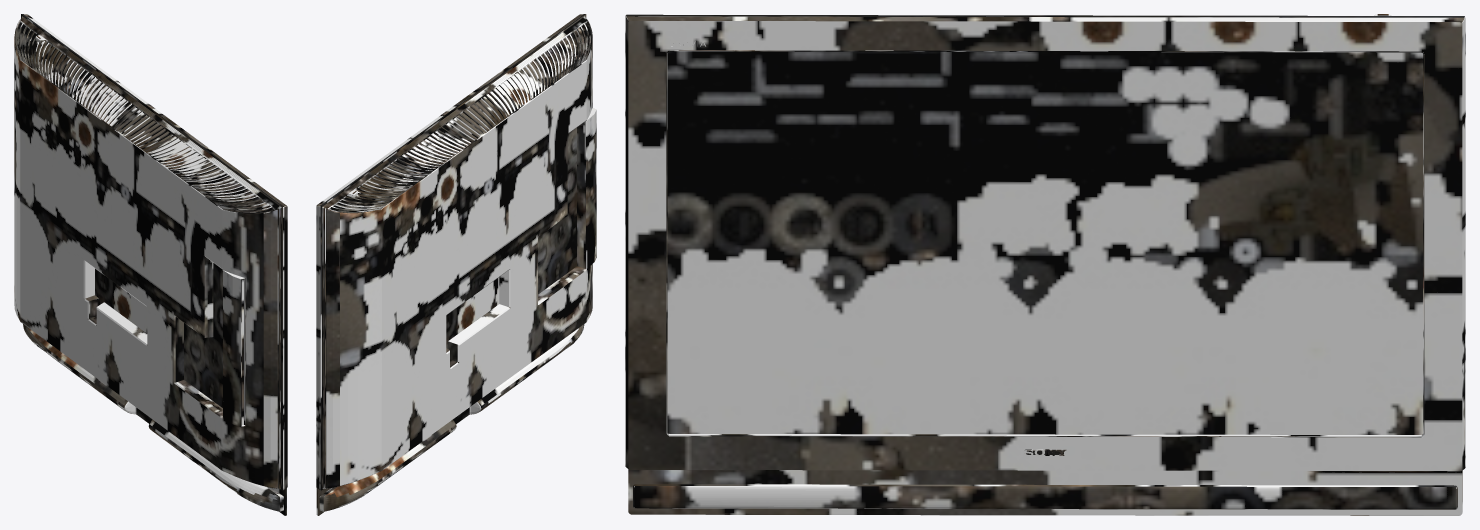
Rendered from hotelhamilton_11.obj.
3 renders of one model, left to right at view 1: azimuth 30°, elevation 25°; view 2: azimuth 150°, elevation 25°; view 3: azimuth 270°, elevation 25°, orthographic. The views are drawn at different scales.
Bounding box in the file's own units: 0.111 × 0.8403 × 1.28.
